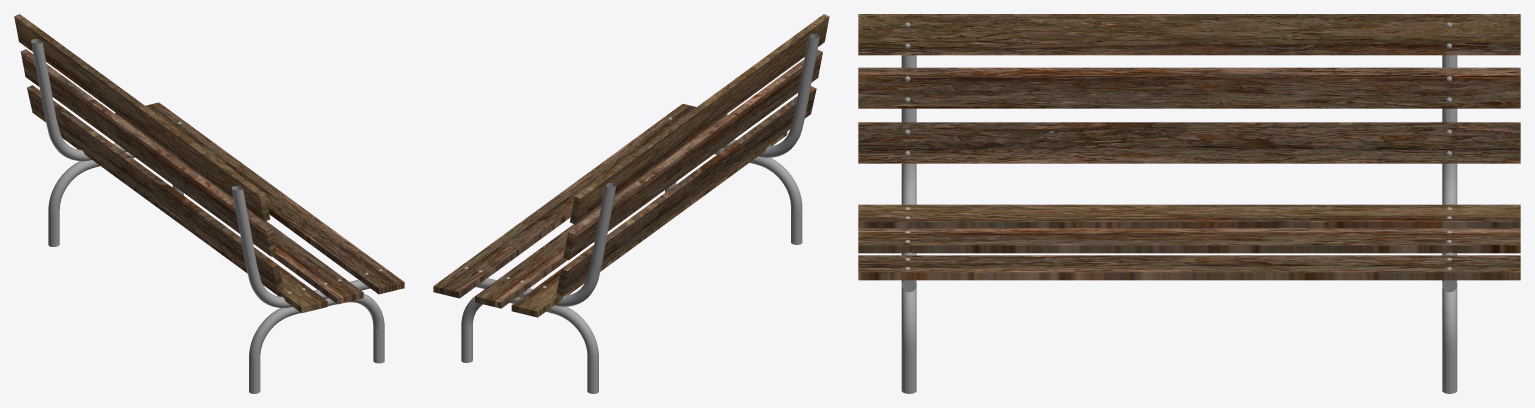
The model's file is bench.obj.
3 renders of one model, left to right at view 1: azimuth 30°, elevation 25°; view 2: azimuth 150°, elevation 25°; view 3: azimuth 270°, elevation 25°, orthographic. The views are drawn at different scales.
Parts seen in each view (by area): view 1: kiti_polySurface13, polySurface12_kiti; view 2: kiti_polySurface13, polySurface12_kiti; view 3: kiti_polySurface13, polySurface12_kiti.
Part boxes in pixels (x1,y1,x2,y2): kiti_polySurface13: (14, 14, 404, 312); polySurface12_kiti: (31, 39, 384, 393); kiti_polySurface13: (433, 14, 829, 317); polySurface12_kiti: (461, 34, 819, 393); kiti_polySurface13: (858, 14, 1520, 280); polySurface12_kiti: (901, 55, 1457, 393).
Size of the model in its own units: 21.77 by 28.95 by 60.39.
